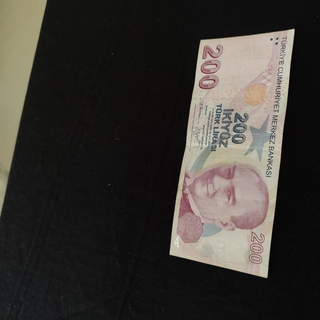200TLFront: (168, 28, 295, 278)
